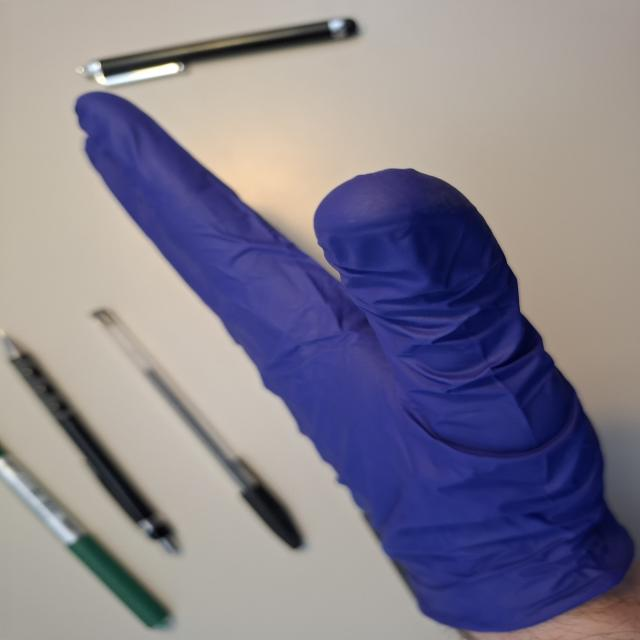glove_on: (70, 88, 640, 632)
